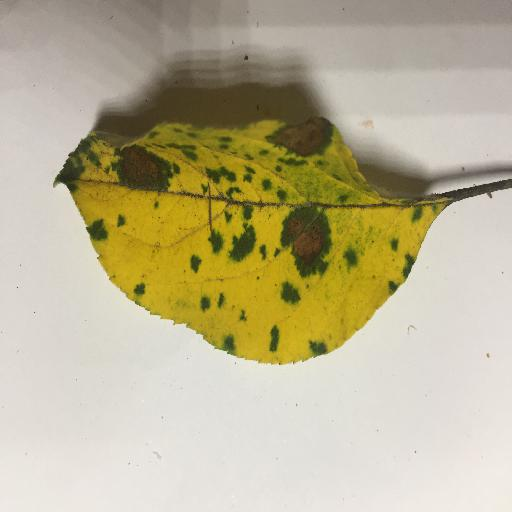Brown_Spot: (282, 203, 331, 268), (108, 147, 175, 187), (266, 120, 335, 153)
